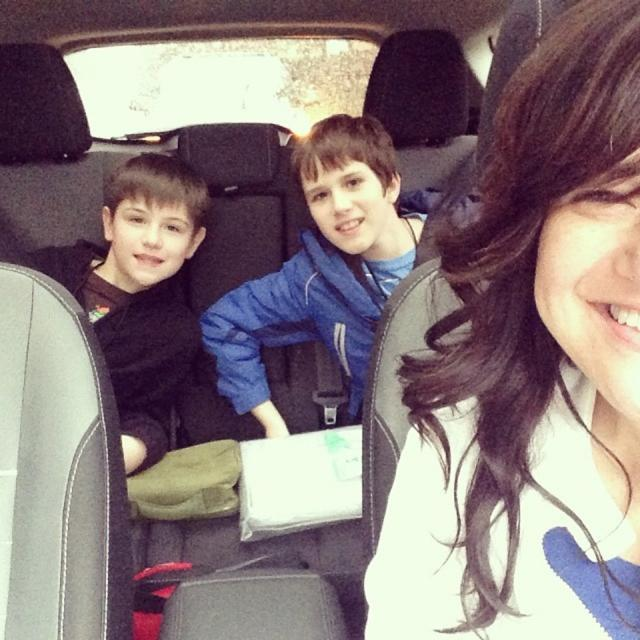SafeDriving: (565, 163, 639, 222), (120, 206, 152, 230), (341, 166, 369, 192), (157, 216, 190, 238), (306, 186, 334, 205)
Seatbelt: (312, 338, 350, 428)
